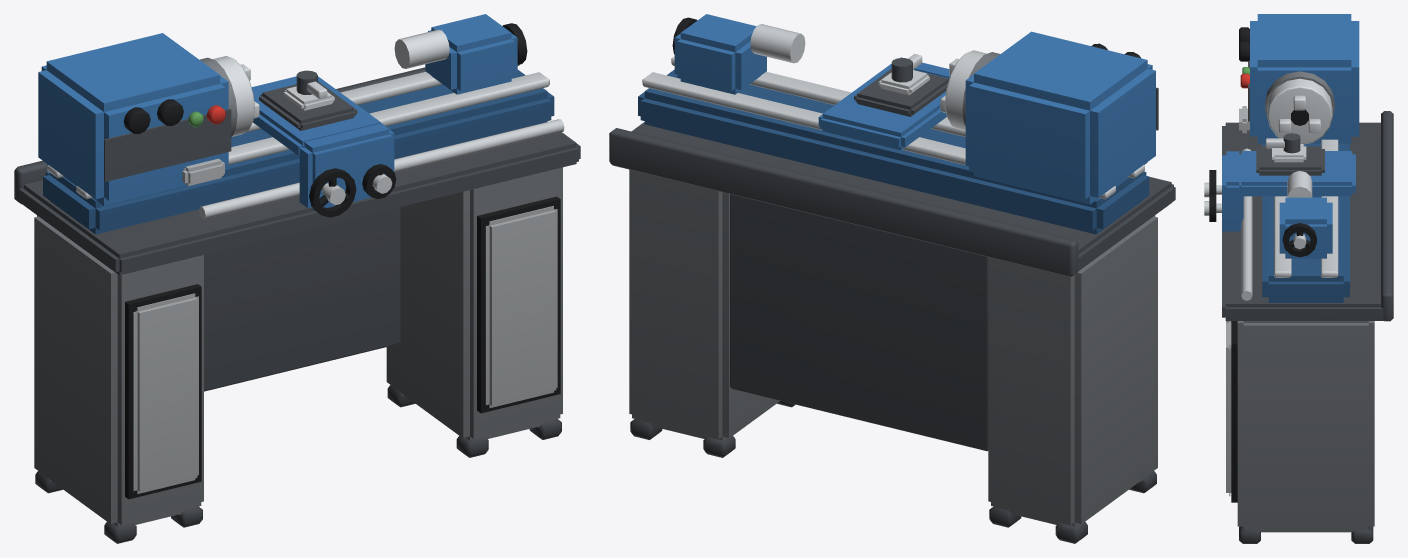
File: SM_Lathe_Metal_01.glb
The picture shows the model from 3 angles, left to right: view 1: azimuth 30°, elevation 25°; view 2: azimuth 150°, elevation 25°; view 3: azimuth 270°, elevation 25°; orthographic projection. The views are drawn at different scales.
Visible parts, largest first — view 1: SM_Lathe_Metal_01; view 2: SM_Lathe_Metal_01; view 3: SM_Lathe_Metal_01.
Boxes of the visible parts, x1,y1,x2,y2 form: SM_Lathe_Metal_01: [14, 14, 580, 543]; SM_Lathe_Metal_01: [609, 14, 1175, 543]; SM_Lathe_Metal_01: [1204, 14, 1393, 543].
Size of the model in its own units: 1.4 by 1.25 by 0.606.
Materials: 1 (1 with a texture image).
